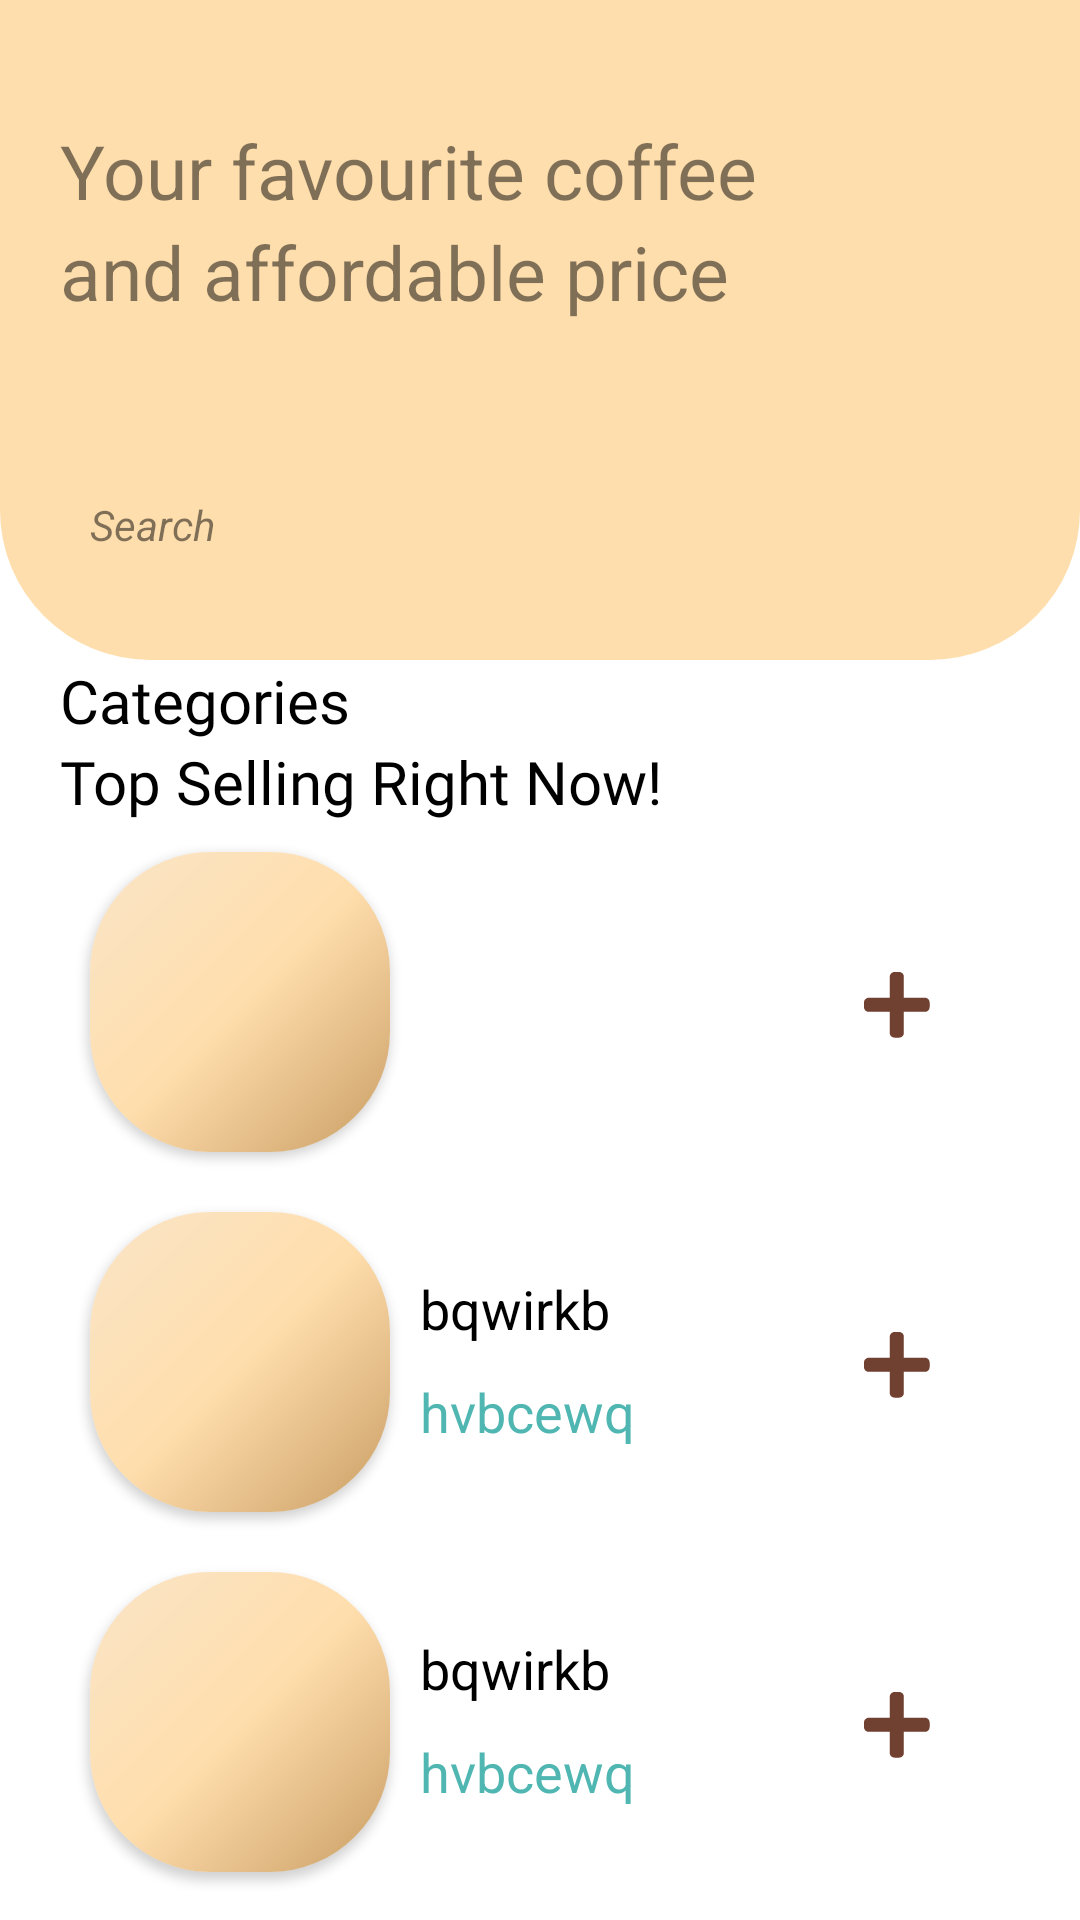

Locate icon controls on the screen. Image size 1080x1920, boxes as BBox(x1, y1, x2, y2).
add: BBox(864, 972, 930, 1038), BBox(864, 1332, 930, 1398), BBox(864, 1692, 930, 1758)
